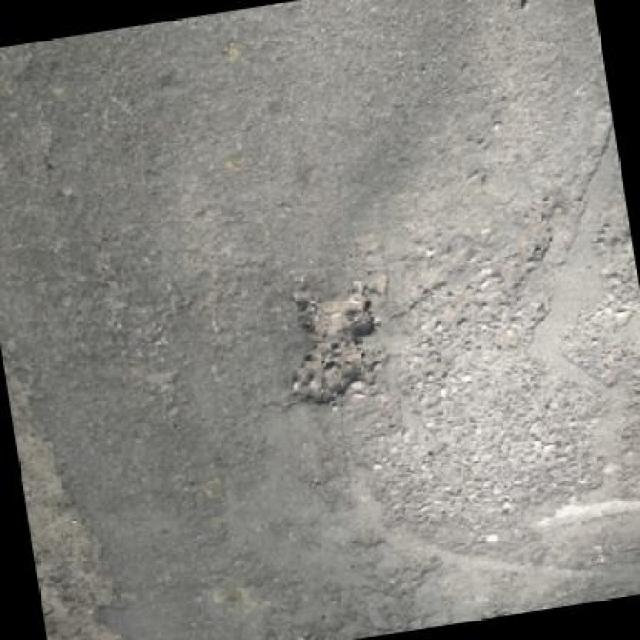pothole: (282, 286, 396, 414)
